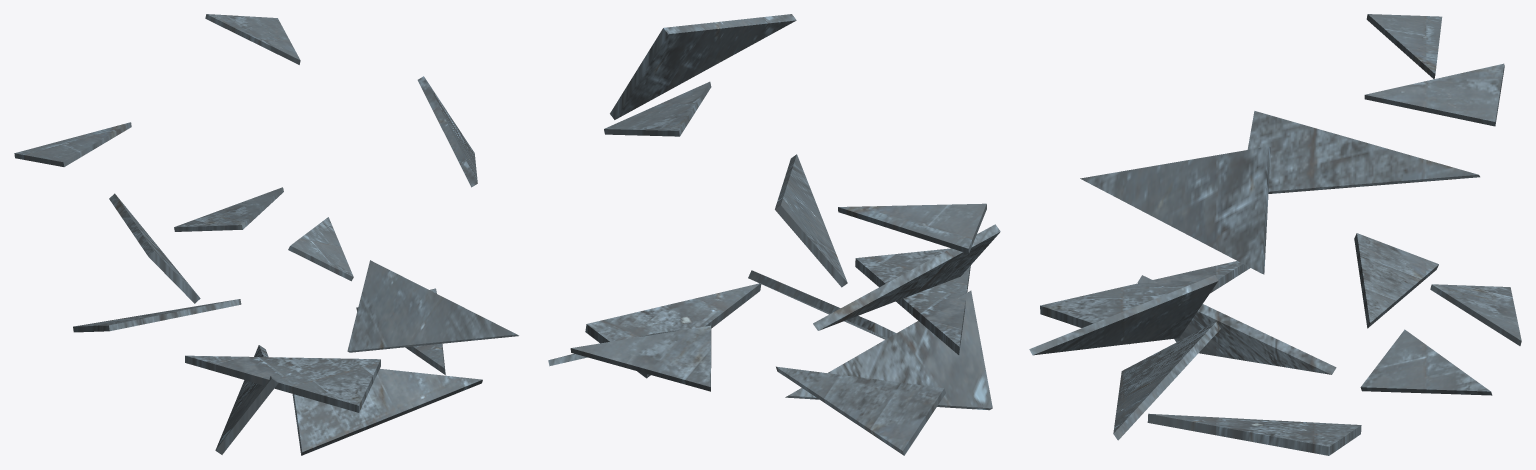
The model's file is projectile_shrapnel.glb.
The picture shows the model from 3 angles, left to right: view 1: azimuth 30°, elevation 25°; view 2: azimuth 150°, elevation 25°; view 3: azimuth 270°, elevation 25°; orthographic projection. The views are drawn at different scales.
Parts seen in each view (by area): view 1: Shrapnel; view 2: Shrapnel; view 3: Shrapnel.
Part boxes in pixels (x1,y1,x2,y2): Shrapnel: (14, 14, 518, 455); Shrapnel: (548, 14, 1000, 455); Shrapnel: (1029, 14, 1521, 455).
Size of the model in its own units: 0.4269 by 0.3294 by 0.4121.
Materials: 1 (1 with a texture image).
